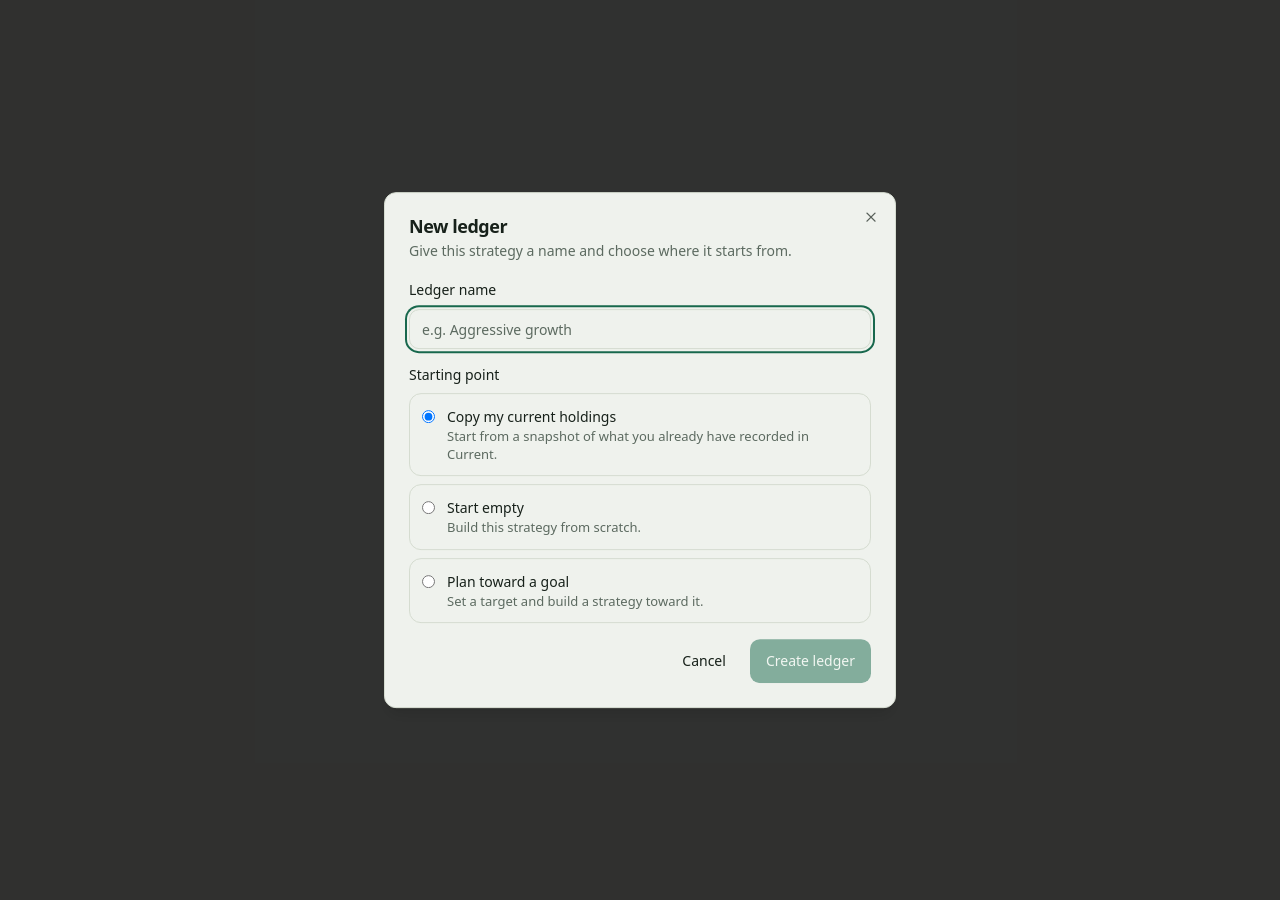
Scenario: goal step AI wiring — POST /api/ai-suggestions, kind: goal_plan › renders AiCapNotice, not a generic error, for a 409 cap_reached response
Click the radio button labelled "Plan toward a goal" at (428, 581), box [422,575,435,588]
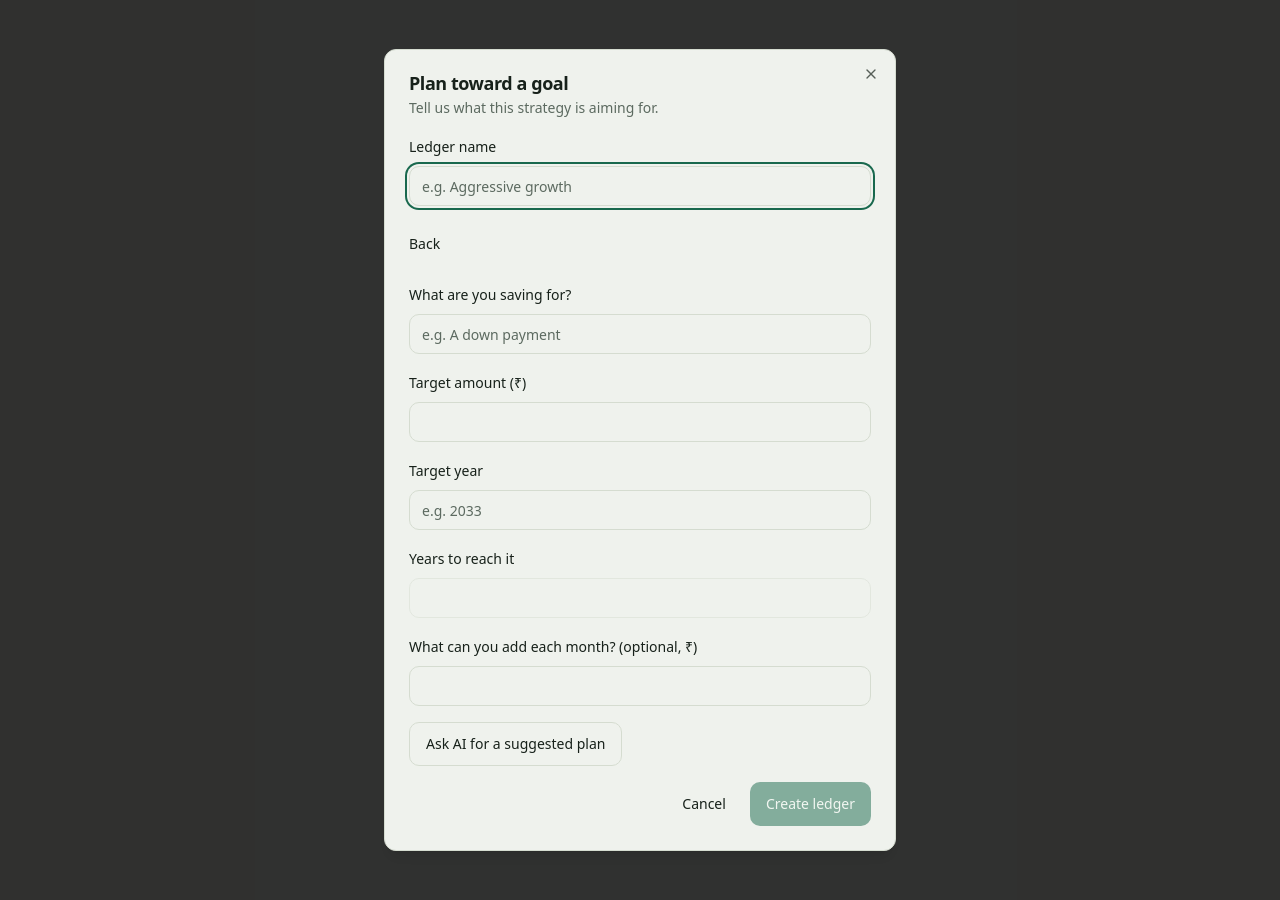
Type "Toward the house" into the field labelled "Ledger name" at (640, 186), box [409,166,871,206]
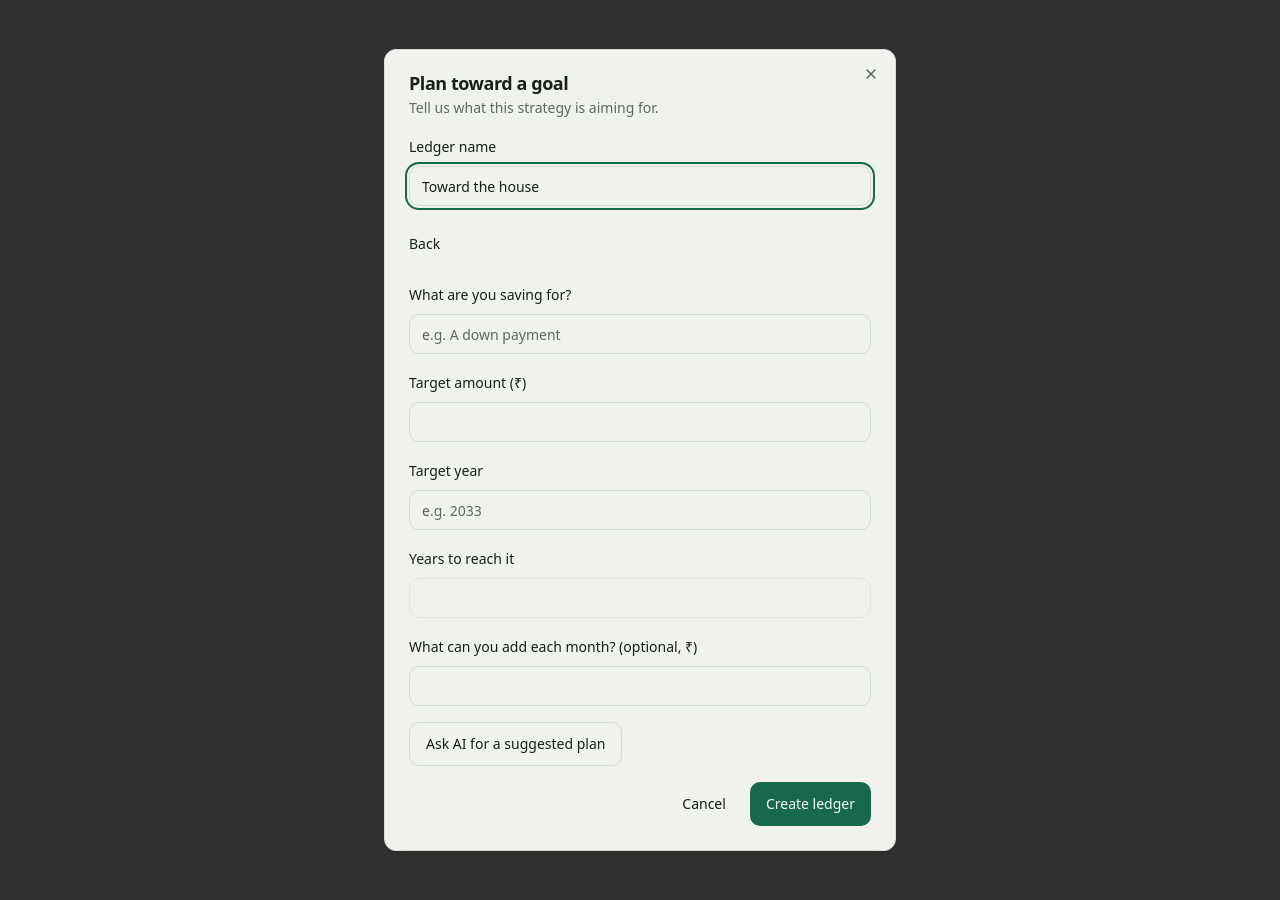
Type "A house" into the field labelled "What are you saving for?" at (640, 334), box [409,314,871,354]
Type "500000" into the number field labelled "Target amount (₹)" at (640, 422), box [409,402,871,442]
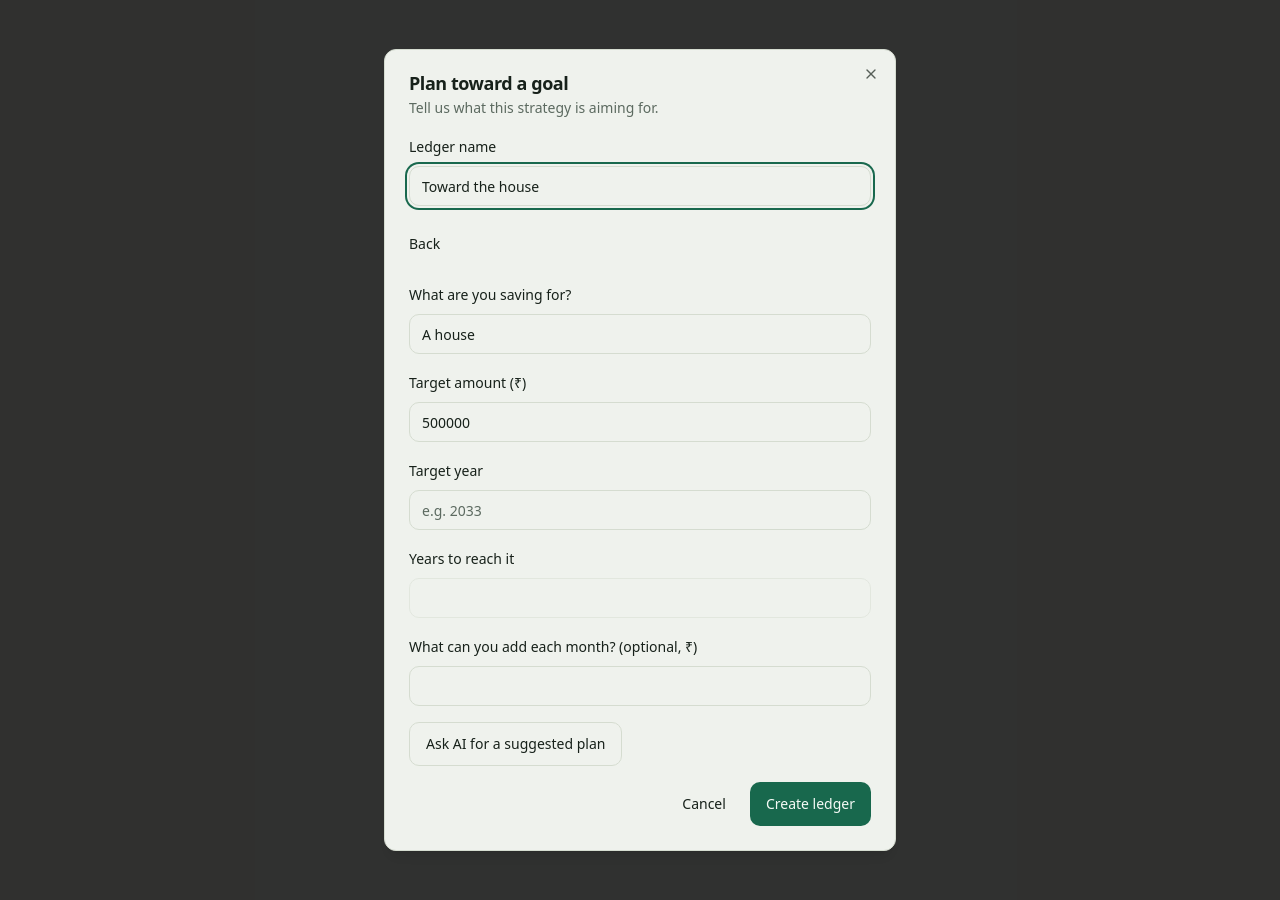
Type "2033" into the number field labelled "Target year" at (640, 510), box [409,490,871,530]
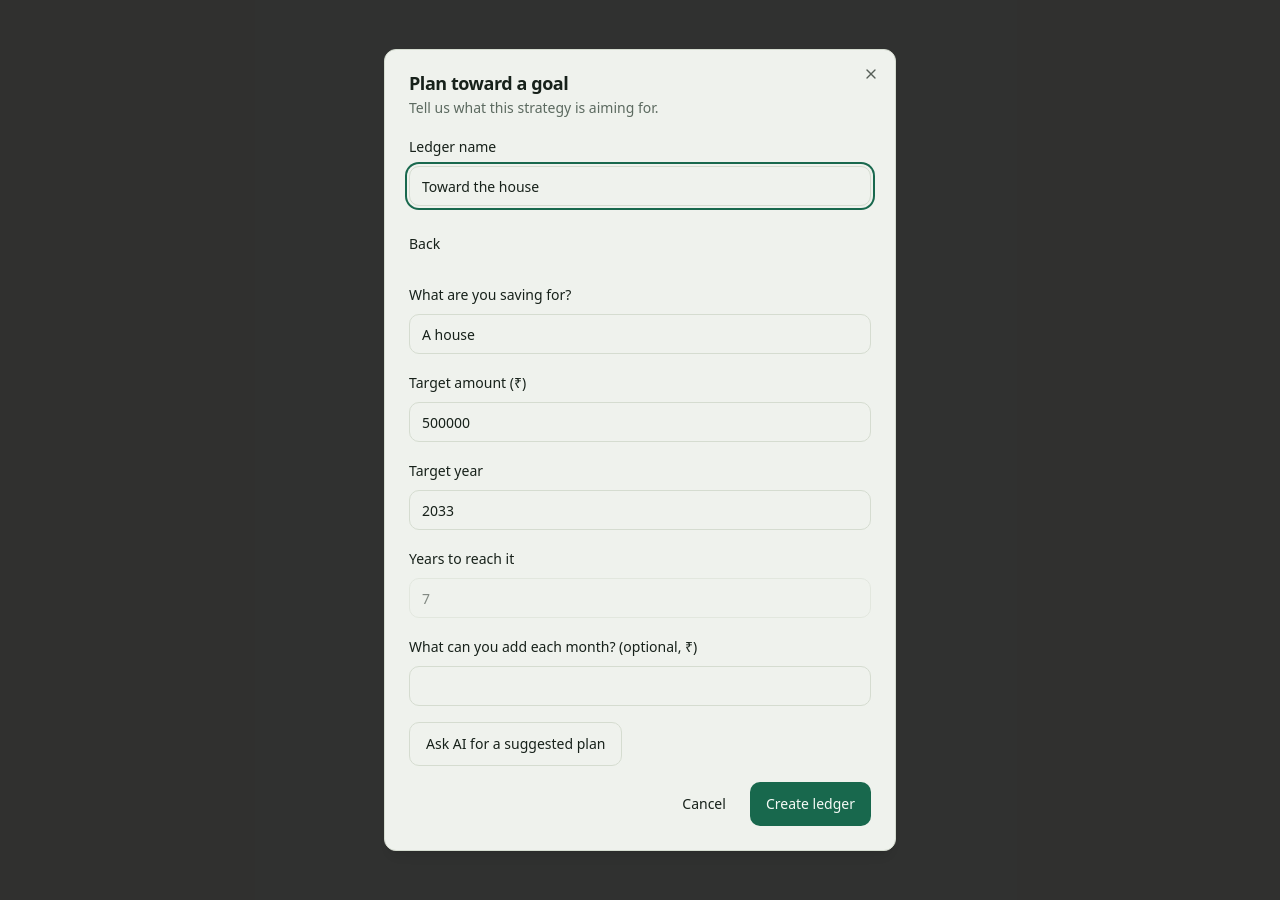
Click the button "Ask AI for a suggested plan" at (516, 744), box [409,722,622,766]
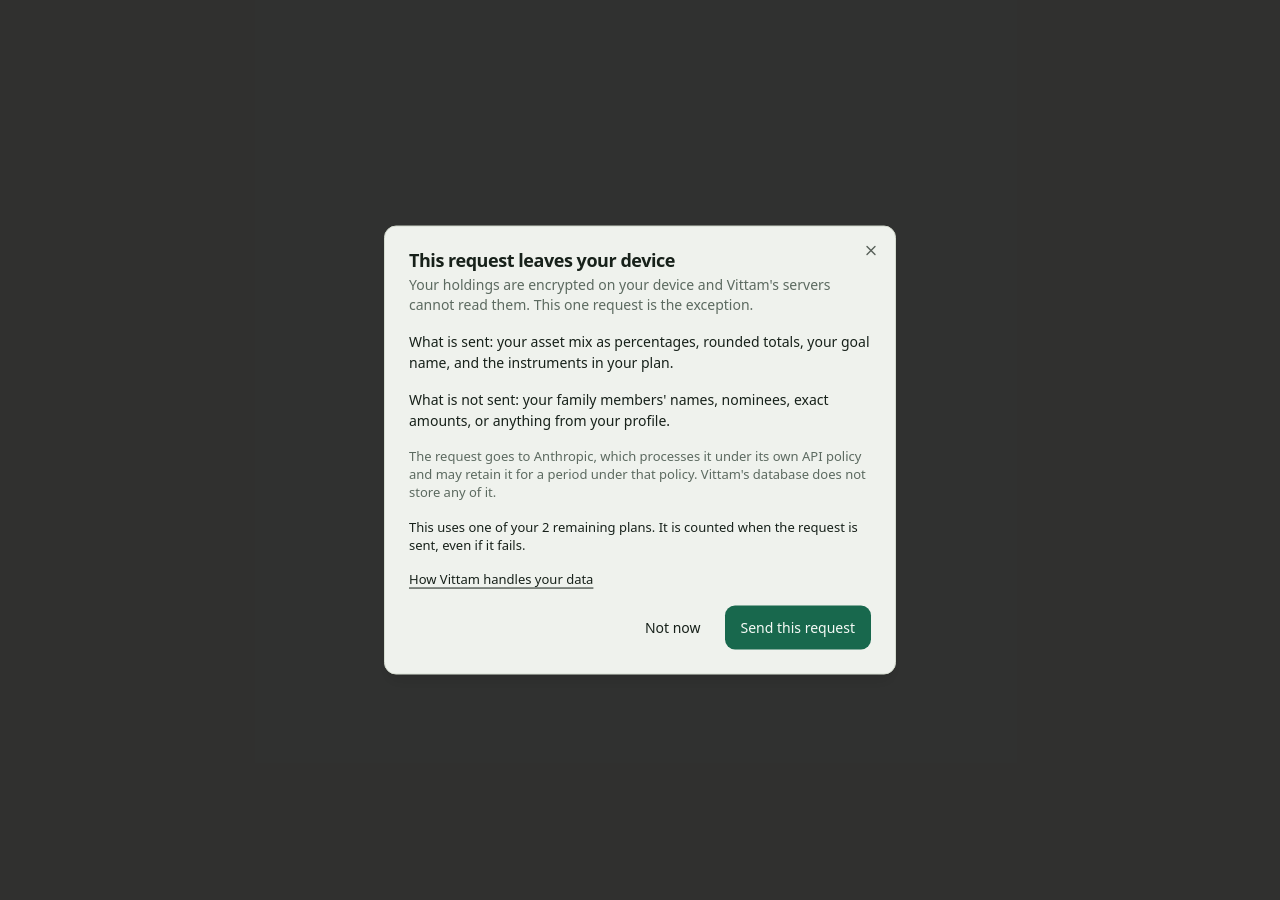
Click the button "Send this request" at (798, 628), box [724,606,871,650]
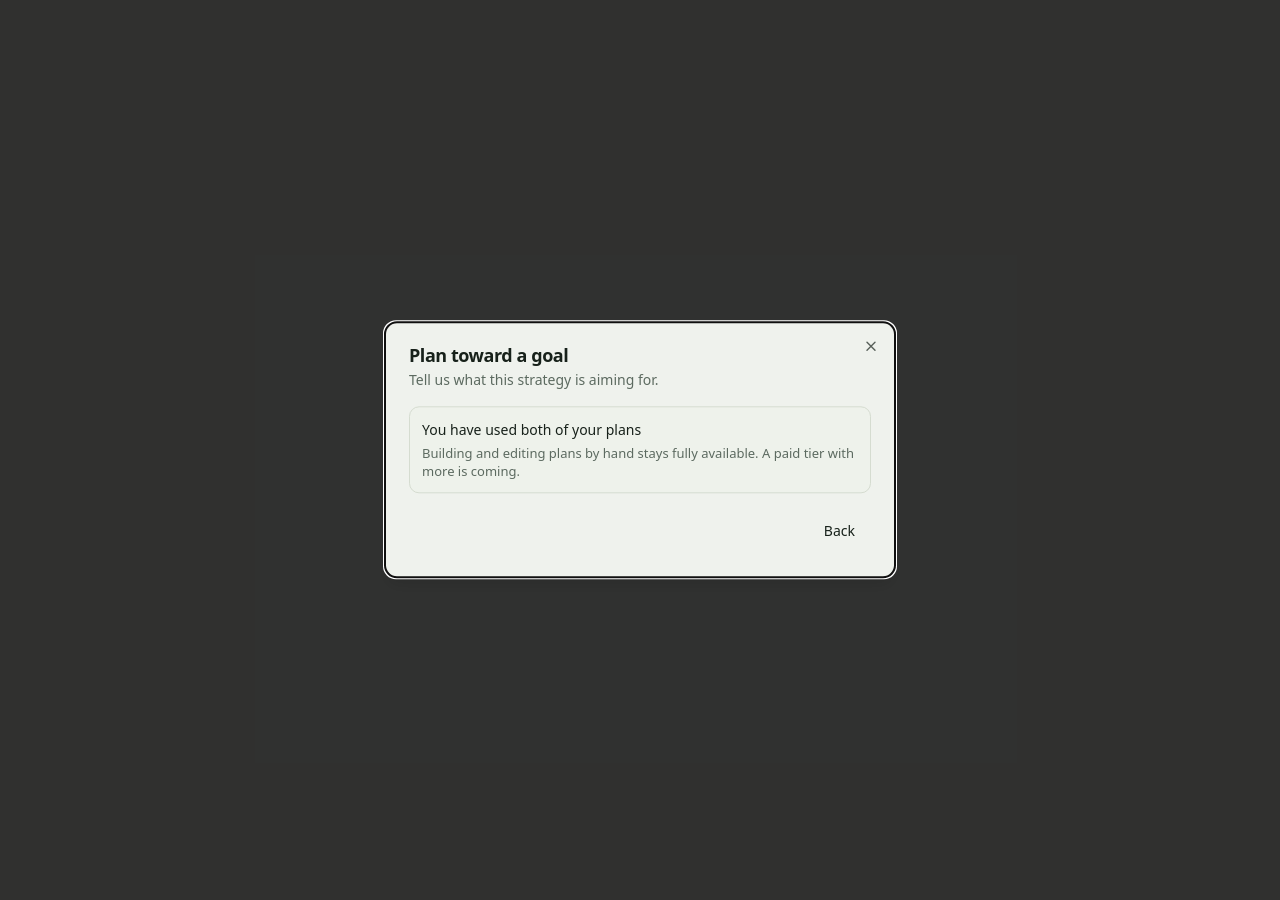
Result: the text "You have used both of your plans" is shown at [422,420,641,439]
